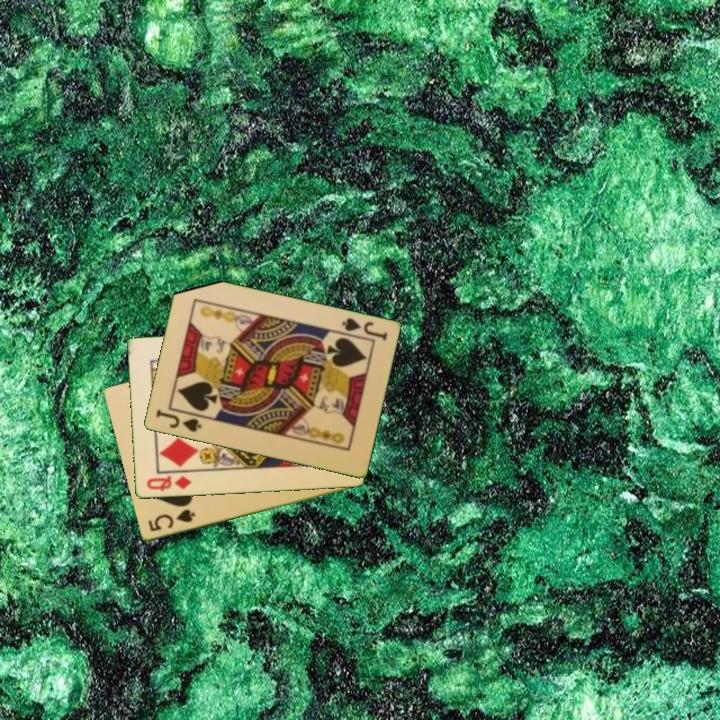5s: (144, 506, 198, 535)
Js: (152, 406, 204, 435), (338, 315, 390, 344)
Qd: (143, 472, 194, 494)
